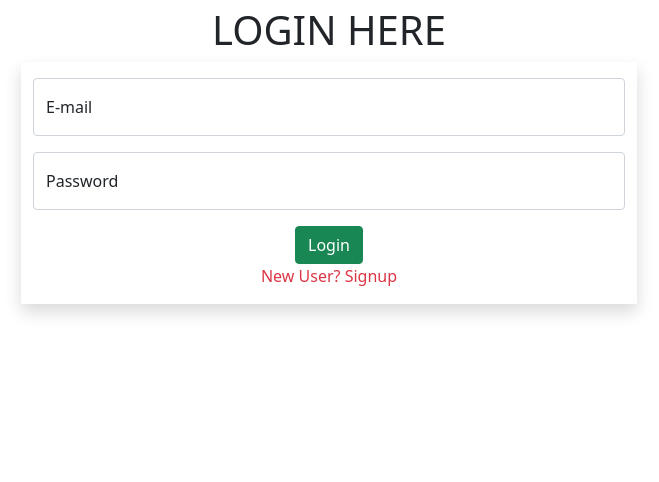
it: should check proper error message is displayed when fields are empty
The width and height of the screenshot is (659, 482).
Finding and clicking on login button
What coordinates should you click on to do the following:
click the button "Login"
I would click on:
 (329, 245)
Its box is 295,226 -> 363,264.
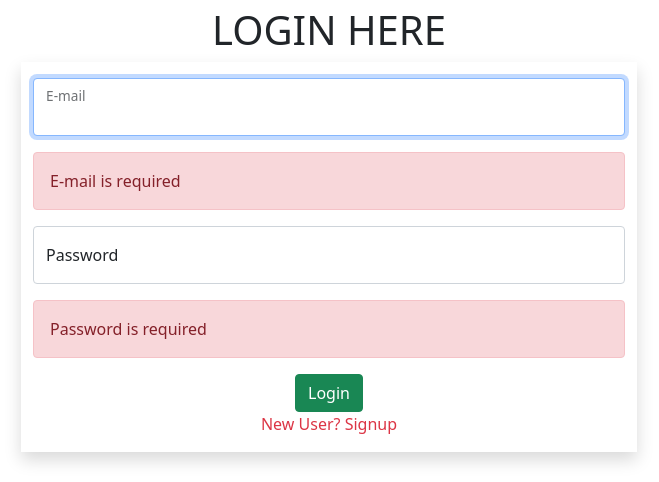
Check: the text "E-mail is required" is shown 2 times, box 33,152 -> 625,210; 33,300 -> 625,358
